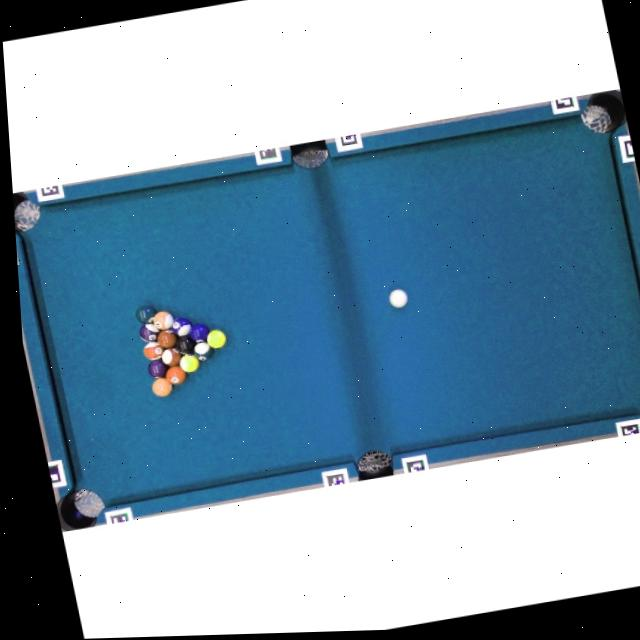cue ball: (386, 287, 411, 311)
other: (133, 302, 160, 326), (149, 376, 175, 399), (164, 364, 189, 387), (151, 309, 176, 332), (205, 327, 229, 350), (177, 352, 202, 374), (192, 340, 215, 363), (160, 346, 184, 368), (156, 328, 179, 350), (188, 322, 211, 344), (170, 316, 193, 338), (146, 358, 170, 379), (139, 322, 161, 344), (142, 341, 165, 361), (175, 335, 197, 355)
